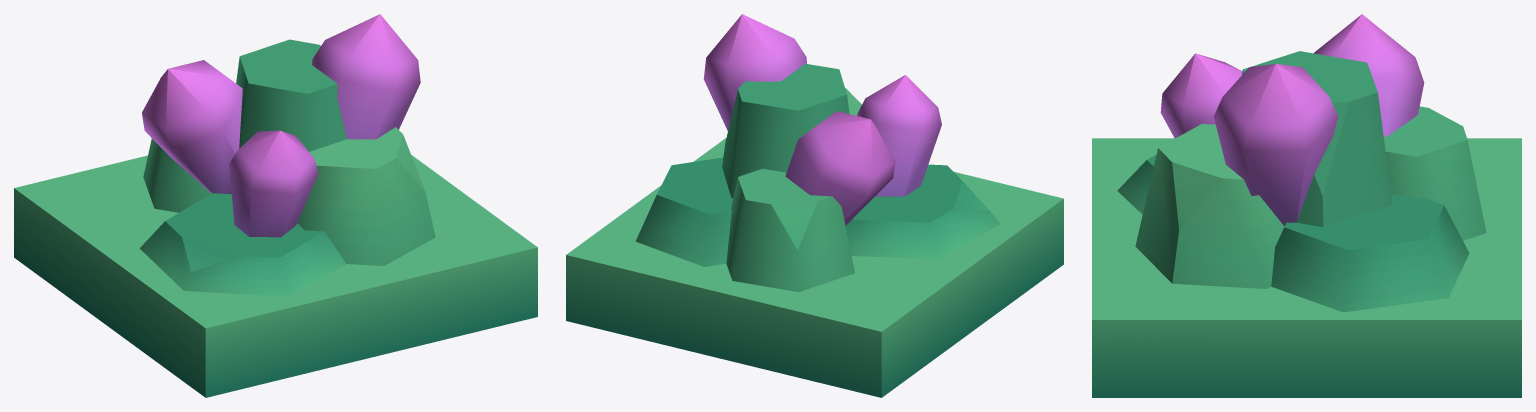
The model's file is tile-crystal.glb.
3 views of the same model, side by side, from view 1: azimuth 30°, elevation 25°; view 2: azimuth 150°, elevation 25°; view 3: azimuth 270°, elevation 25° (orthographic). The views are drawn at different scales.
Parts seen in each view (by area): view 1: tile-crystal; view 2: tile-crystal; view 3: tile-crystal.
Part boxes in pixels (x1=…): tile-crystal: x1=14, y1=14, x2=537, y2=397; tile-crystal: x1=566, y1=14, x2=1063, y2=397; tile-crystal: x1=1092, y1=14, x2=1521, y2=397.
Bounding box in the file's own units: 1 × 0.7518 × 1.
Materials: 1 (1 with a texture image).
